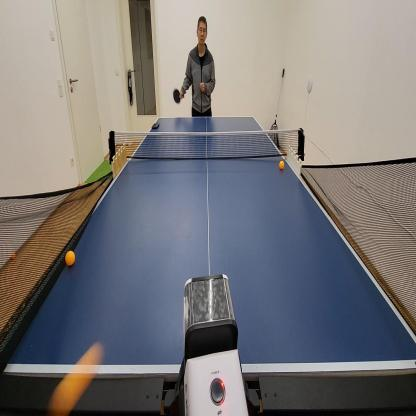Ball: (47, 338, 104, 416), (64, 250, 76, 266), (279, 160, 284, 170), (11, 252, 16, 260), (102, 182, 106, 188)
